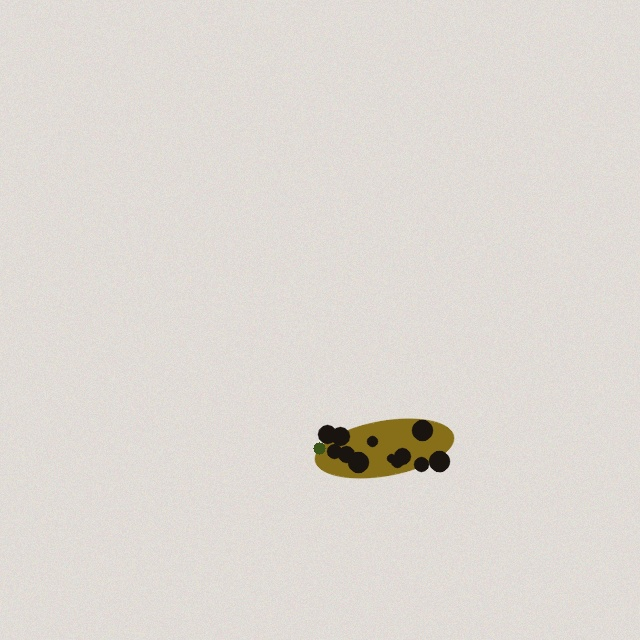Rotten banana: (311, 415, 457, 481)
